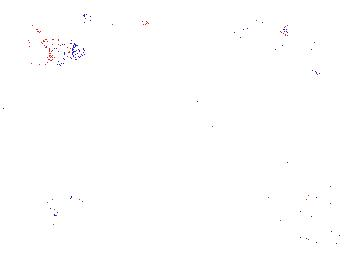X-ray fish: (13, 28, 87, 73)
glassfish: (119, 132, 234, 208)
redtail glassfish: (78, 8, 159, 37), (274, 42, 340, 71), (219, 17, 295, 39)
